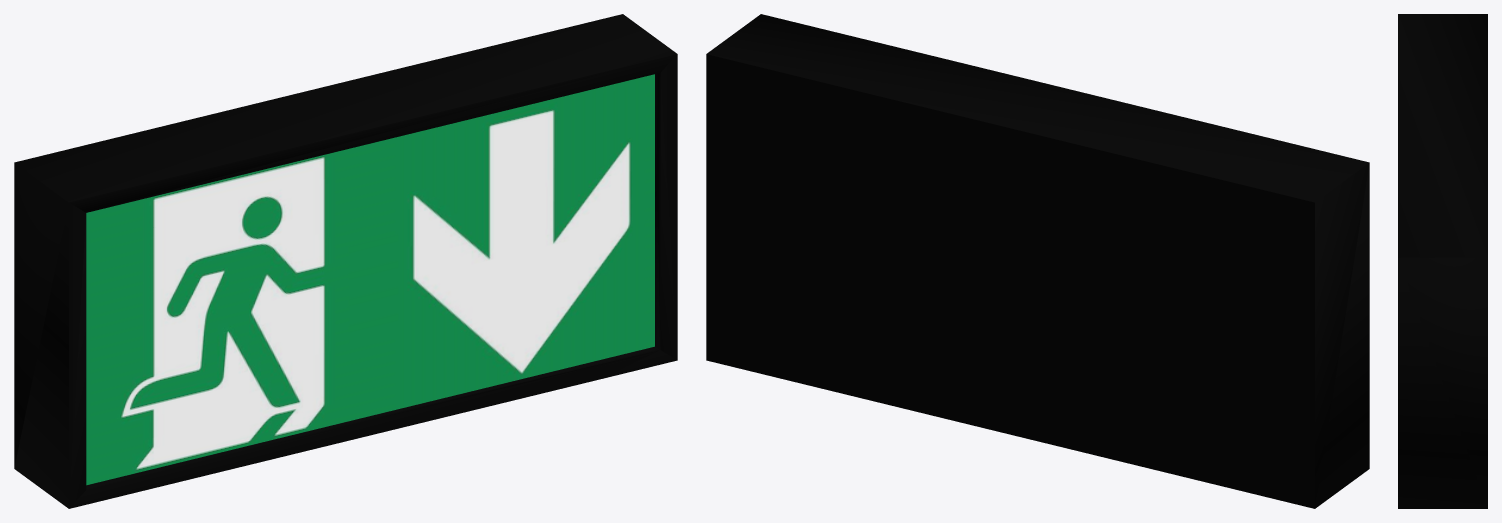
The model's file is exitsign_edited.gltf.
The picture shows the model from 3 angles, left to right: view 1: azimuth 30°, elevation 25°; view 2: azimuth 150°, elevation 25°; view 3: azimuth 270°, elevation 25°; orthographic projection. The views are drawn at different scales.
Parts seen in each view (by area): view 1: Exit; view 2: Exit; view 3: Exit.
Part boxes in pixels (x1,y1,x2,y2): Exit: [14, 14, 677, 508]; Exit: [706, 14, 1369, 508]; Exit: [1398, 14, 1487, 508].
Bounding box in the file's own units: 1317 × 665 × 205.
Materials: 5 (4 with a texture image).
